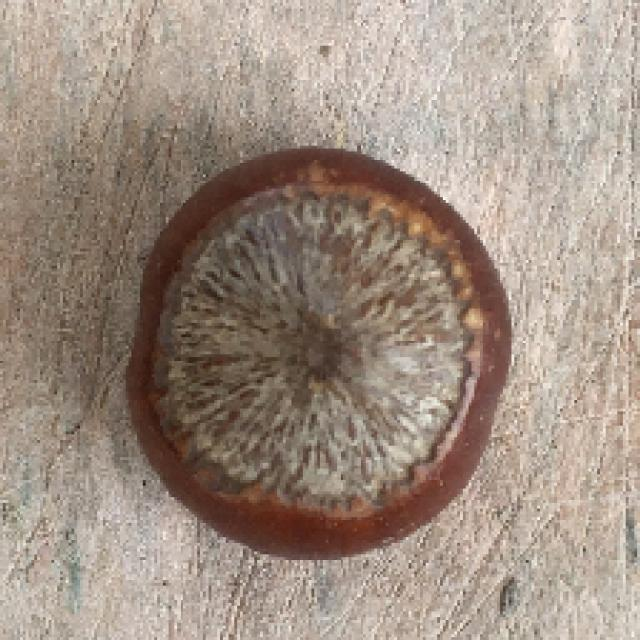damagedHazelnut: (108, 142, 520, 560)
